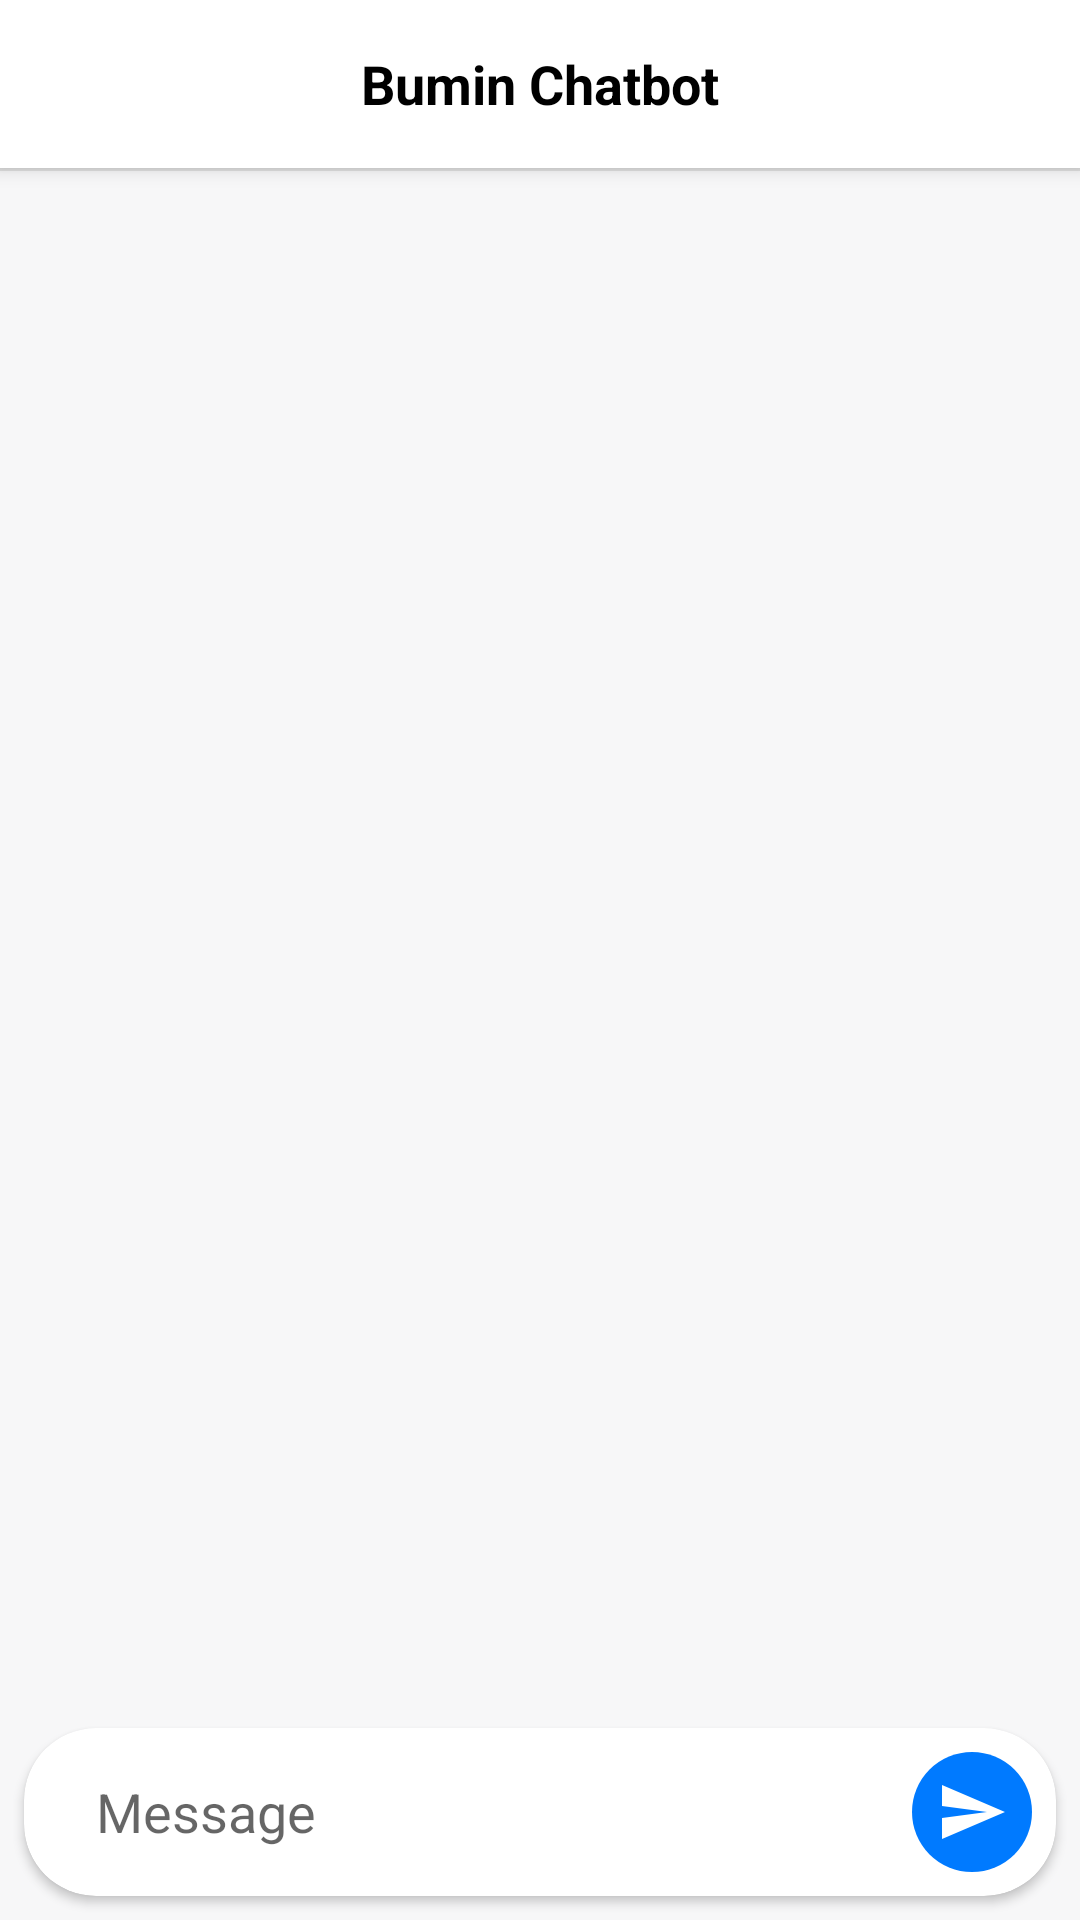

Icon bounding boxes for this 1080w x 1920h phone screenshot, format (x1, y1, x2, y2):
Send: (912, 1752, 1032, 1872)
